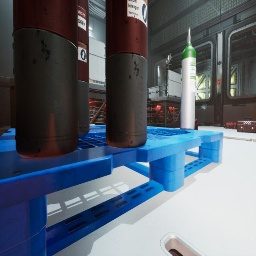0: (180, 27, 196, 130), (89, 124, 96, 125)
FireAlarm ,: (217, 78, 221, 85), (106, 73, 106, 76)
FireExtinguisher ]: (223, 122, 237, 129)
FirstAidBox ,: (237, 117, 256, 133), (180, 119, 198, 130)
NitrogenTank ,: (12, 0, 79, 158), (105, 0, 148, 148), (78, 0, 90, 135)
